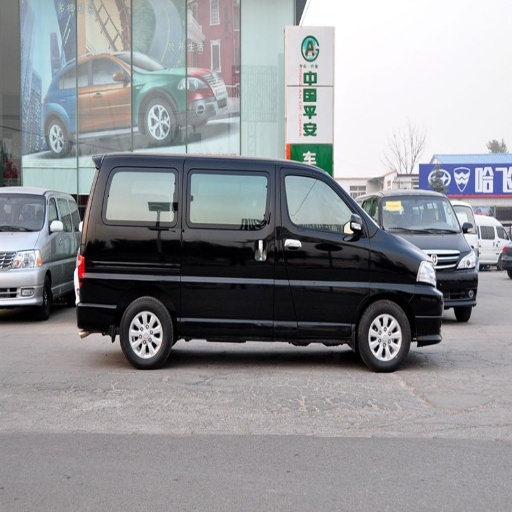back_right_door: (186, 164, 277, 326)
front_right_door: (274, 164, 367, 328)
trunk: (95, 71, 234, 207), (95, 261, 177, 316)
